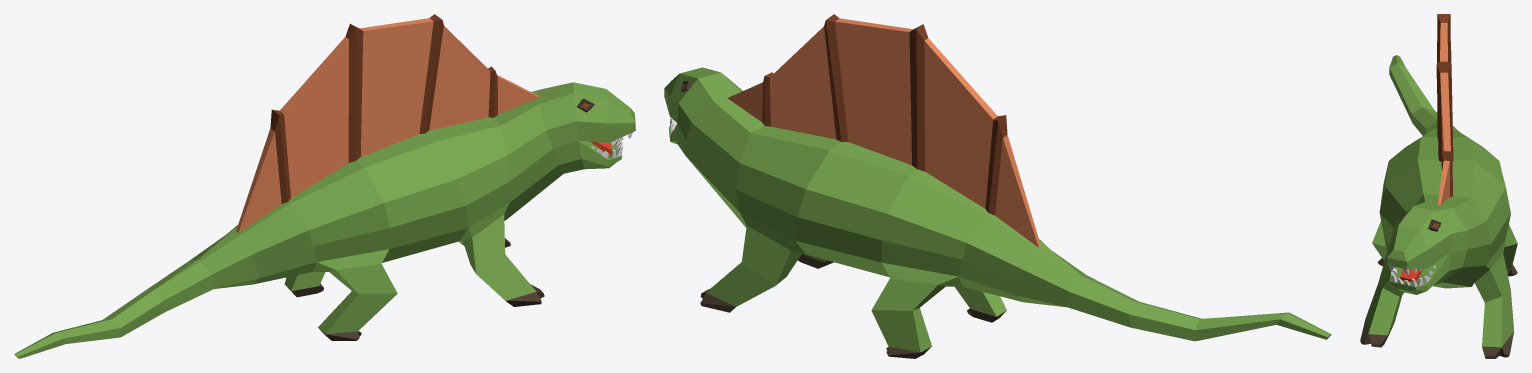
Rendered from creature_element.fbx.
3 renders of one model, left to right at view 1: azimuth 30°, elevation 25°; view 2: azimuth 150°, elevation 25°; view 3: azimuth 270°, elevation 25°, orthographic. The views are drawn at different scales.
Visible parts, largest first — view 1: creature; view 2: creature; view 3: creature.
Boxes of the visible parts, bbox=[...] form: creature: bbox=[14, 14, 635, 358]; creature: bbox=[664, 14, 1331, 358]; creature: bbox=[1360, 14, 1517, 358].
Size of the model in its own units: 447 by 194 by 104.
